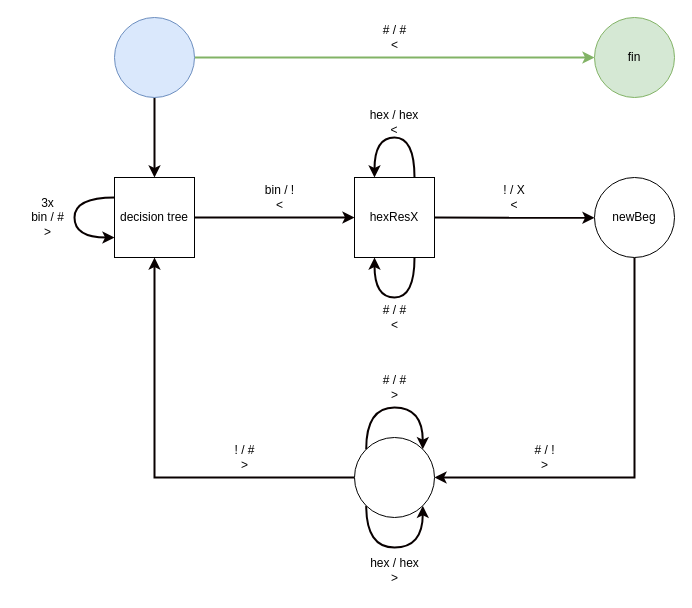
The diagram is 692 pixels wide and 608 high, and some of its shapes have lost their labels. The centre of each missing label's shape, as x and y in pixels:
"binHexInit" belongs at point (154, 57).
"findBin" belongs at point (394, 477).
